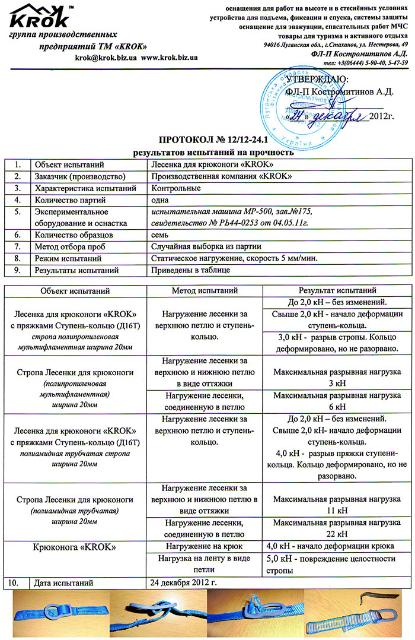stamp: (260, 66, 344, 152)
